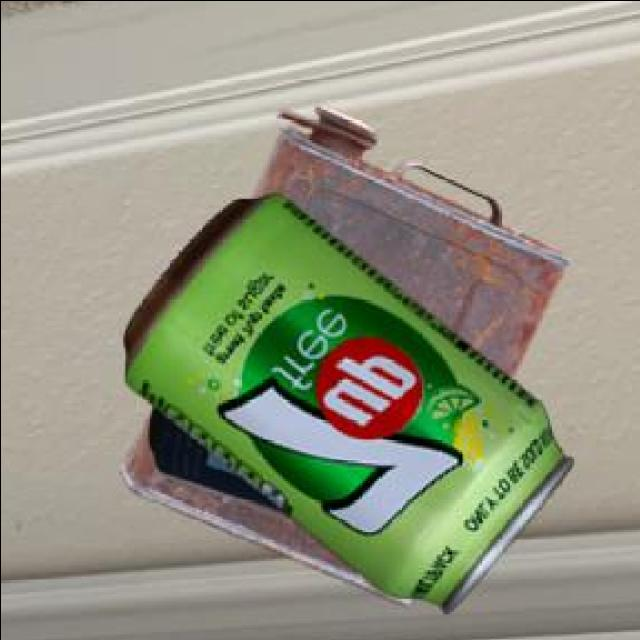logam: (117, 110, 566, 608), (121, 197, 568, 617), (146, 410, 277, 512)
